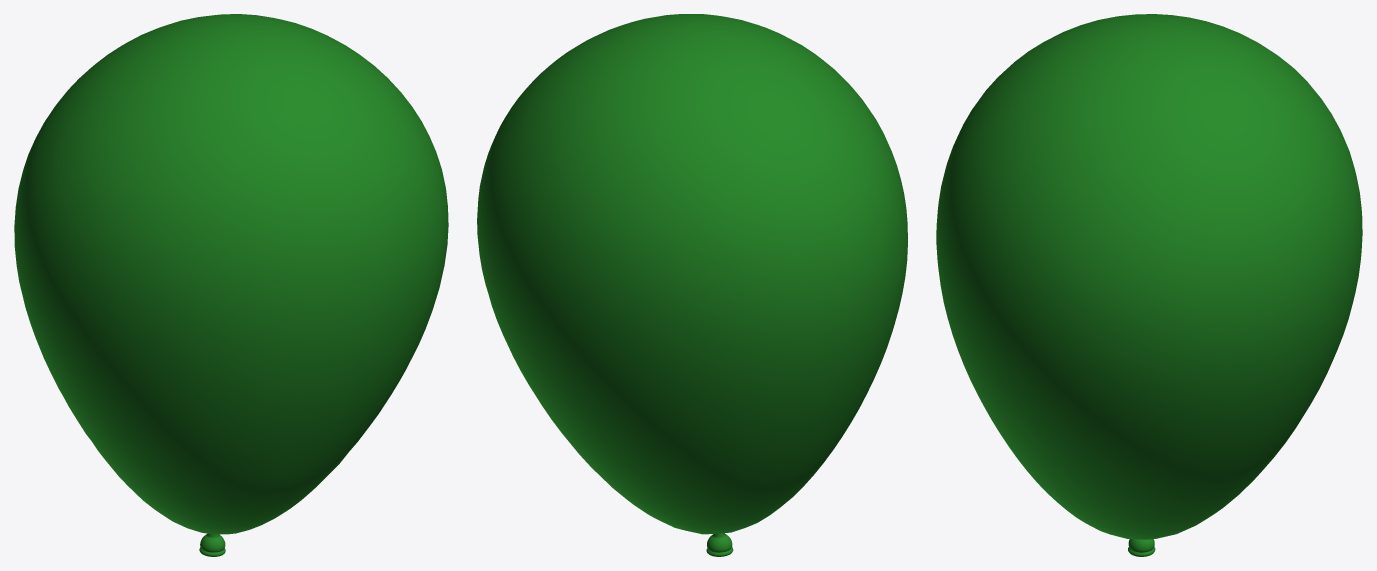
Rendered from balloon_green.fbx.
The picture shows the model from 3 angles, left to right: view 1: azimuth 30°, elevation 25°; view 2: azimuth 150°, elevation 25°; view 3: azimuth 270°, elevation 25°; orthographic projection. The views are drawn at different scales.
Parts seen in each view (by area): view 1: node_id214.003; view 2: node_id214.003; view 3: node_id214.003.
Boxes of the visible parts, left/top/right/bottom form: node_id214.003: left=14, top=14, right=448, bottom=556; node_id214.003: left=477, top=14, right=907, bottom=556; node_id214.003: left=936, top=14, right=1362, bottom=556.
Size of the model in its own units: 8.37 by 10.76 by 7.85.
